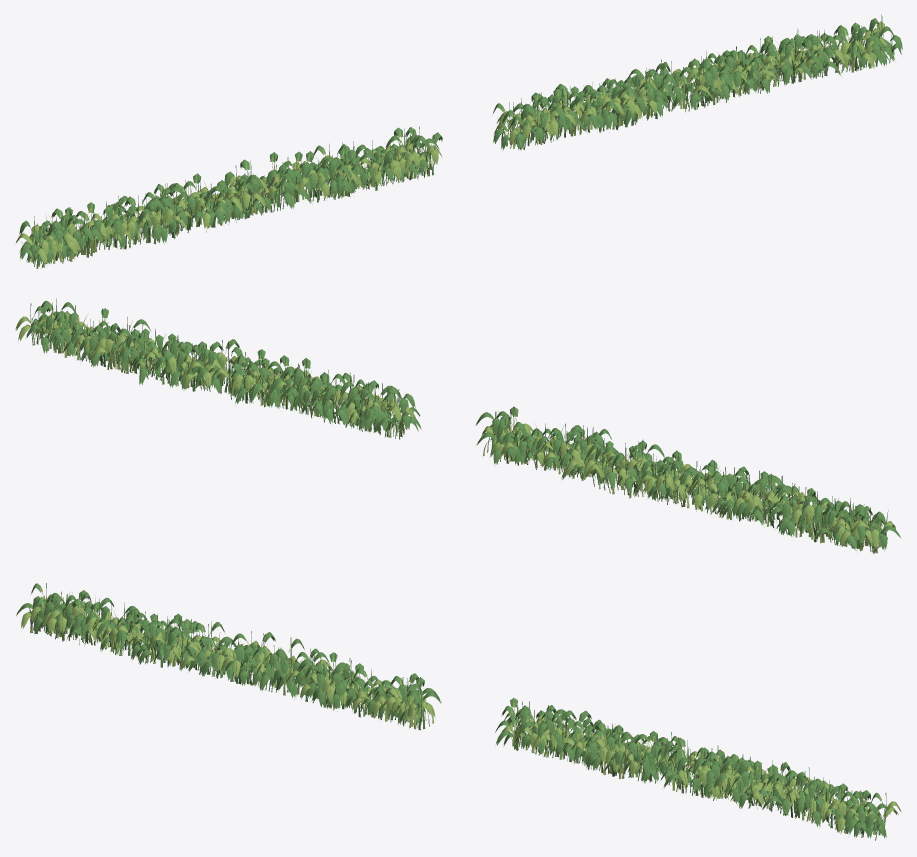
The model's file is meadow.glb.
The picture shows the model from 3 angles, top to bottom: view 1: azimuth 30°, elevation 25°; view 2: azimuth 150°, elevation 25°; view 3: azimuth 330°, elevation 25°; orthographic projection.
Parts seen in each view (by area): view 1: Meadow tuft 17.001, Meadow tuft 20.001, Meadow tuft 29.001, Meadow tuft 23.001, Meadow tuft 04.001, Meadow tuft 26.001, Meadow tuft 00.001, Meadow tuft 13.001, Meadow tuft 06.001, Meadow tuft 10.001, Meadow tuft 28.001, Meadow tuft 08.001 (+15 smaller); view 2: Meadow tuft 17.001, Meadow tuft 05.001, Meadow tuft 22.001, Meadow tuft 29.001, Meadow tuft 00.001, Meadow tuft 09.001, Meadow tuft 02.001, Meadow tuft 18.001, Meadow tuft 27.001, Meadow tuft 12.001, Meadow tuft 23.001, Meadow tuft 13.001 (+15 smaller); view 3: Meadow tuft 29.001, Meadow tuft 17.001, Meadow tuft 23.001, Meadow tuft 04.001, Meadow tuft 13.001, Meadow tuft 20.001, Meadow tuft 26.001, Meadow tuft 06.001, Meadow tuft 10.001, Meadow tuft 11.001, Meadow tuft 00.001, Meadow tuft 08.001 (+15 smaller).
Boxes of the visible parts, x1,y1,x2,y2 form: Meadow tuft 17.001: [493, 93, 561, 150]; Meadow tuft 20.001: [580, 78, 650, 132]; Meadow tuft 29.001: [837, 14, 902, 72]; Meadow tuft 23.001: [672, 54, 740, 112]; Meadow tuft 04.001: [125, 187, 203, 244]; Meadow tuft 26.001: [741, 35, 812, 93]; Meadow tuft 00.001: [14, 215, 89, 268]; Meadow tuft 13.001: [380, 126, 442, 182]; Meadow tuft 06.001: [194, 174, 266, 232]; Meadow tuft 10.001: [298, 141, 365, 202]; Meadow tuft 28.001: [800, 25, 863, 79]; Meadow tuft 08.001: [236, 162, 312, 216]; Meadow tuft 17.001: [354, 383, 421, 439]; Meadow tuft 05.001: [692, 466, 764, 525]; Meadow tuft 22.001: [211, 349, 287, 408]; Meadow tuft 29.001: [15, 298, 87, 353]; Meadow tuft 00.001: [813, 502, 900, 553]; Meadow tuft 09.001: [572, 438, 644, 498]; Meadow tuft 02.001: [768, 483, 838, 543]; Meadow tuft 18.001: [321, 375, 387, 432]; Meadow tuft 27.001: [79, 320, 151, 373]; Meadow tuft 12.001: [475, 414, 563, 470]; Meadow tuft 23.001: [177, 339, 252, 394]; Meadow tuft 13.001: [475, 406, 539, 463]; Meadow tuft 29.001: [828, 788, 901, 840]; Meadow tuft 17.001: [495, 698, 570, 757]; Meadow tuft 23.001: [660, 747, 735, 800]; Meadow tuft 04.001: [126, 611, 196, 669]; Meadow tuft 13.001: [374, 673, 441, 730]; Meadow tuft 20.001: [571, 722, 639, 778]; Meadow tuft 26.001: [731, 760, 800, 817]; Meadow tuft 06.001: [180, 632, 258, 684]; Meadow tuft 10.001: [294, 652, 358, 711]; Meadow tuft 11.001: [305, 658, 377, 717]; Meadow tuft 00.001: [16, 583, 95, 640]; Meadow tuft 08.001: [235, 644, 306, 696].
Bounding box in the file's own units: 8.78 × 0.4609 × 0.6714.
